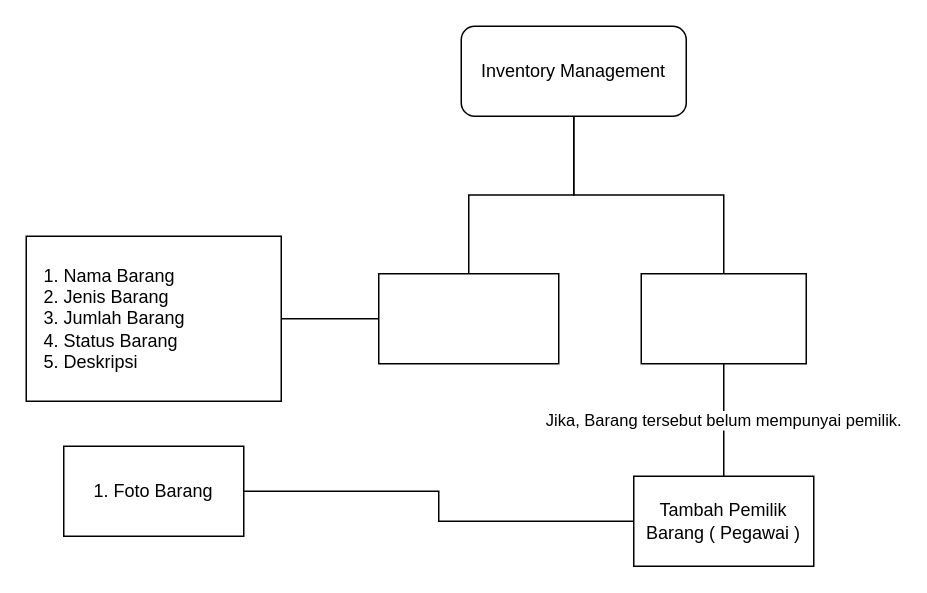
This 927x593 diagram has some shape labels left out. The shapes that lost their labels are listed below. From the top down, each one's centre as x and y in pixels, then its label:
At (x=468, y=318): "Tambah Data Inventaris".
At (x=723, y=318): "Detail Data Inventaris".
